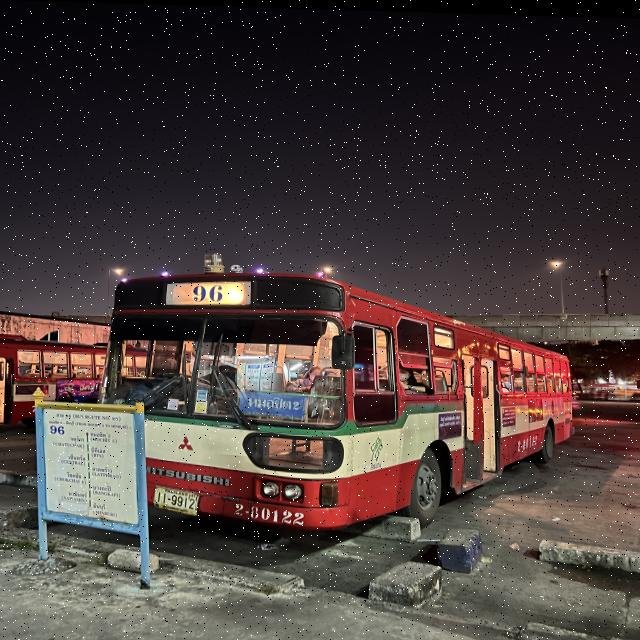BMTA-bus: (63, 255, 578, 533)
Bus Line Number: (184, 277, 235, 310)
Bus Side Number: (235, 498, 311, 525)
Destination Sign: (239, 394, 305, 419)
